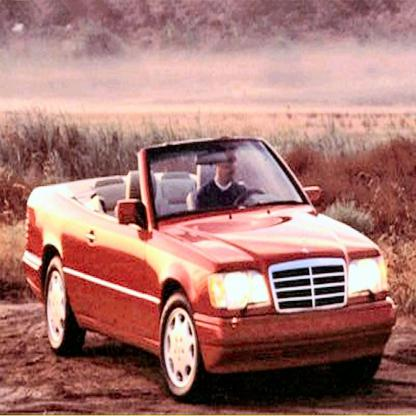Vehicle: (18, 129, 403, 407)
